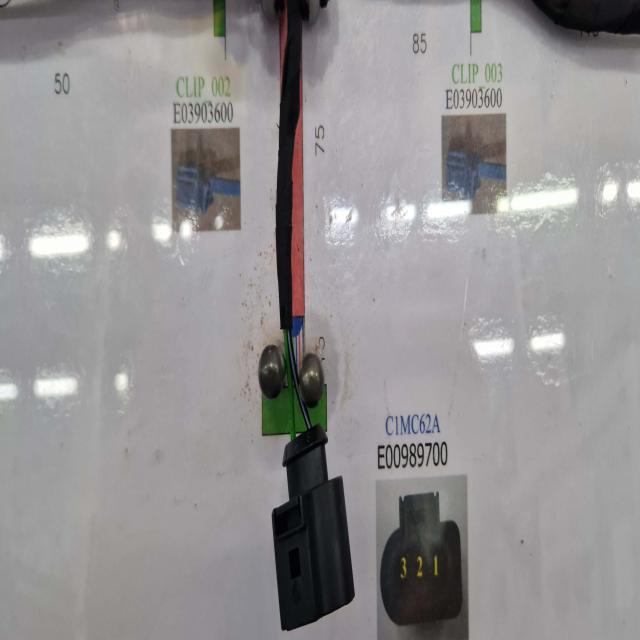Connector: (272, 424, 354, 631)
Gape: (277, 325, 309, 445)
MHEV_N11_Cable: (276, 0, 305, 334)
